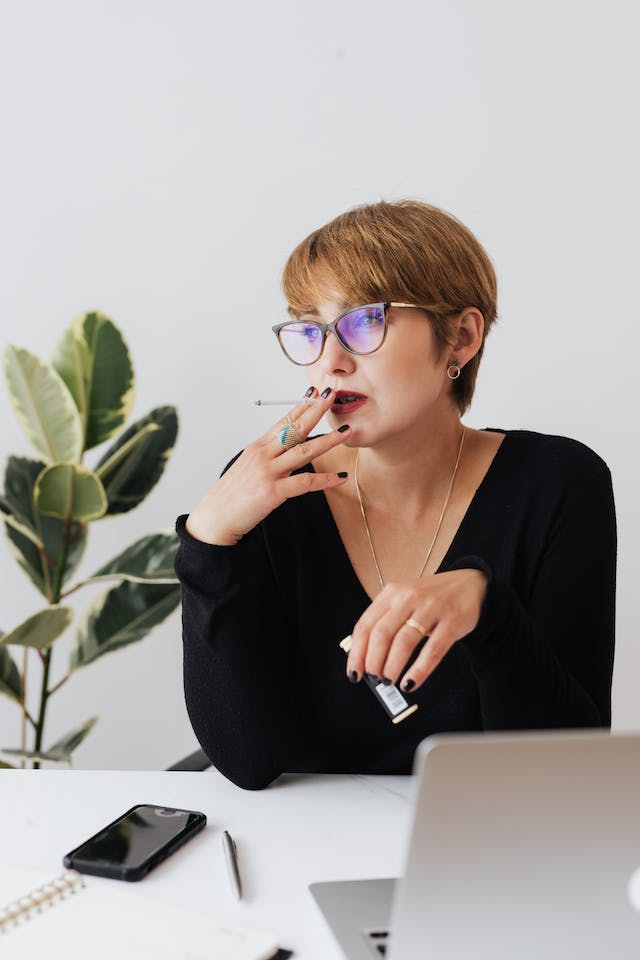Cigarette: (248, 399, 321, 407)
